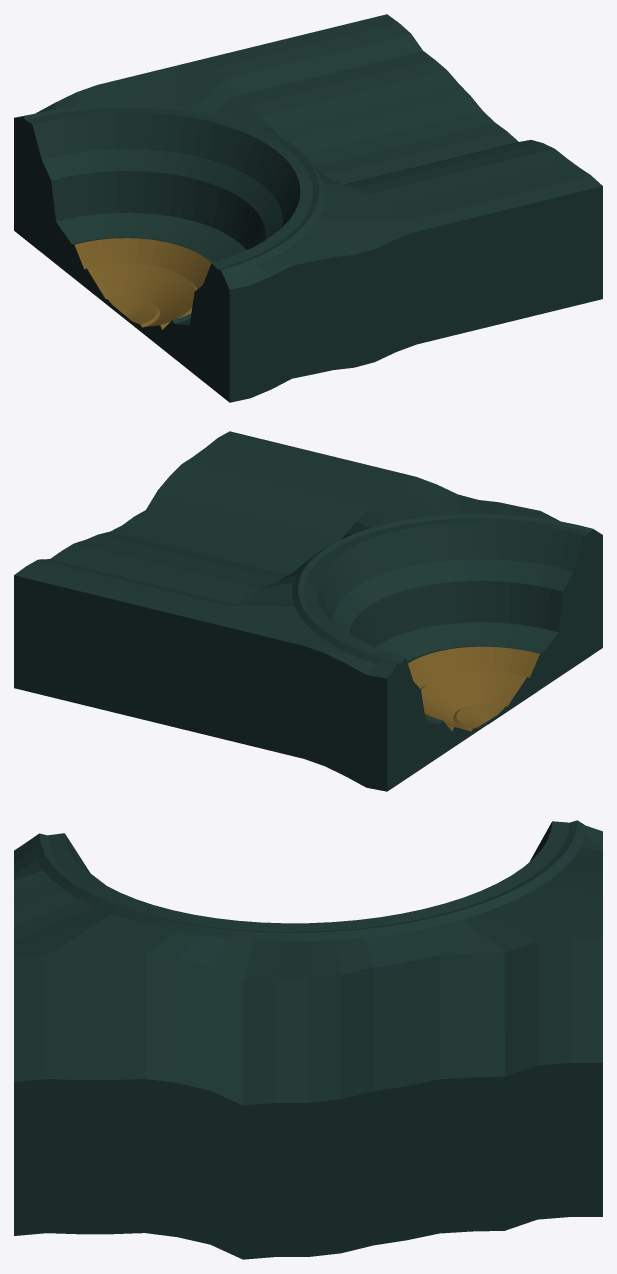
The model's file is Pit Tile Final Right.fbx.
3 renders of one model, top to bottom at view 1: azimuth 30°, elevation 25°; view 2: azimuth 150°, elevation 25°; view 3: azimuth 270°, elevation 25°, orthographic. The views are drawn at different scales.
Visible parts, largest first — view 1: Right Pit Tile; view 2: Right Pit Tile; view 3: Right Pit Tile.
Part boxes in pixels (x1,y1,x2,y2): Right Pit Tile: (14, 14, 602, 402); Right Pit Tile: (14, 431, 602, 791); Right Pit Tile: (14, 820, 602, 1259).
Bounding box in the file's own units: 200 × 73.73 × 200.
